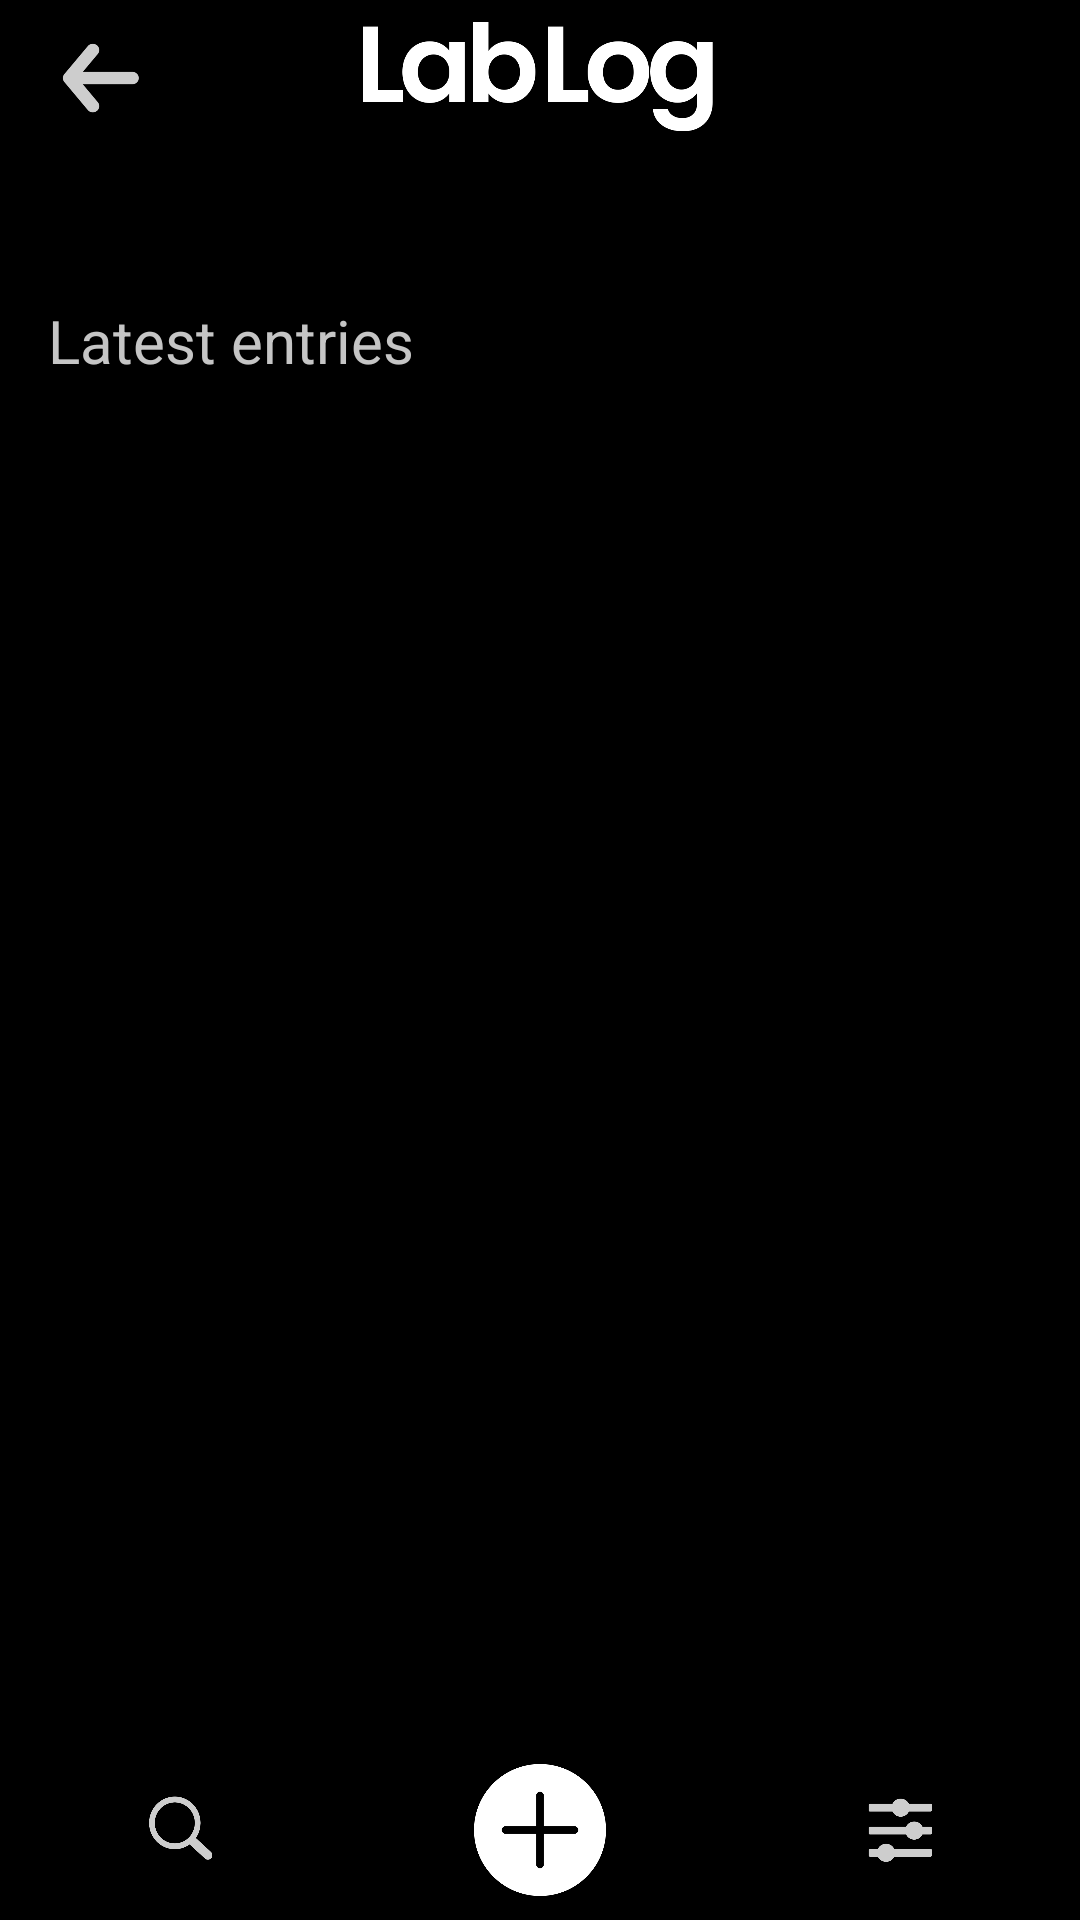

Icons on this 1080×1920 Android screen, each with its box as [left=x1, top=y1, right=x2, bottom=y2]:
back icon: [left=63, top=44, right=139, bottom=113]
search icon: [left=149, top=1796, right=212, bottom=1860]
settings icon: [left=869, top=1799, right=932, bottom=1862]
